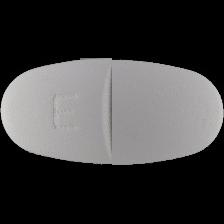16714-357: (0, 0, 224, 224)
